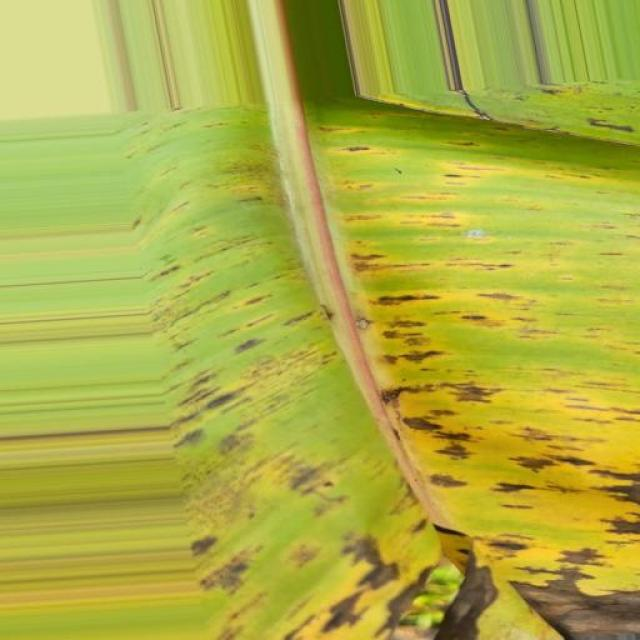Early_rust: (95, 59, 640, 640)
